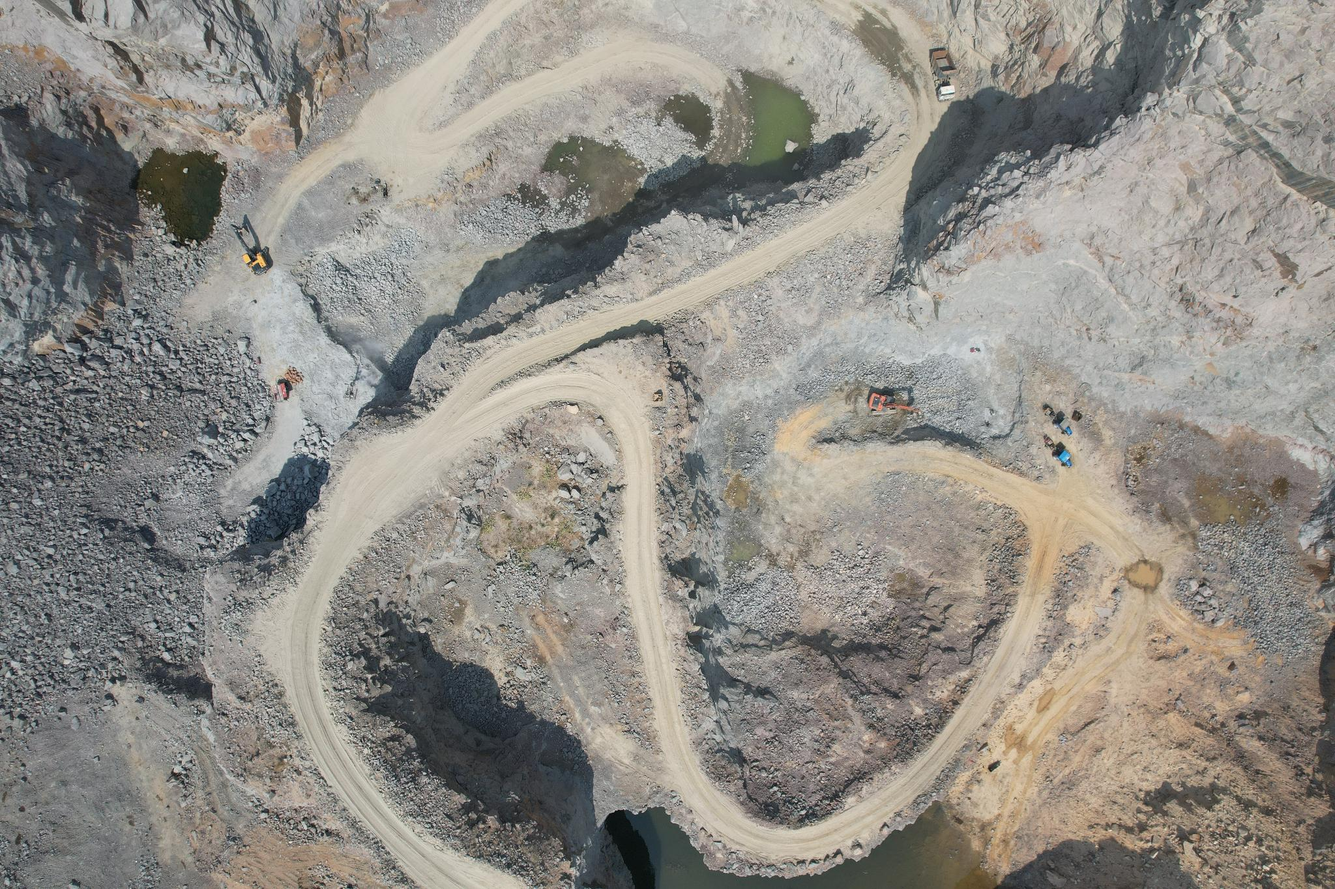benches: (272, 0, 1141, 889), (265, 0, 726, 233)
excavator: (229, 212, 285, 275), (867, 387, 919, 419)
truck: (934, 49, 958, 99)
